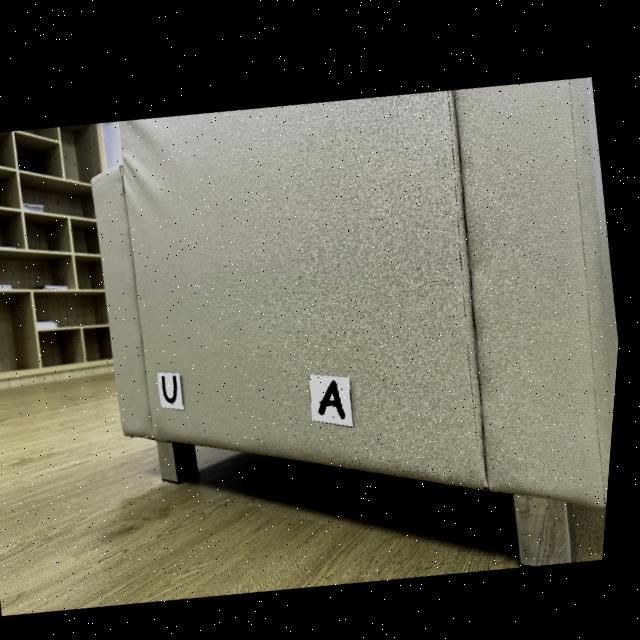A: (324, 374, 351, 411)
U: (167, 373, 183, 400)
